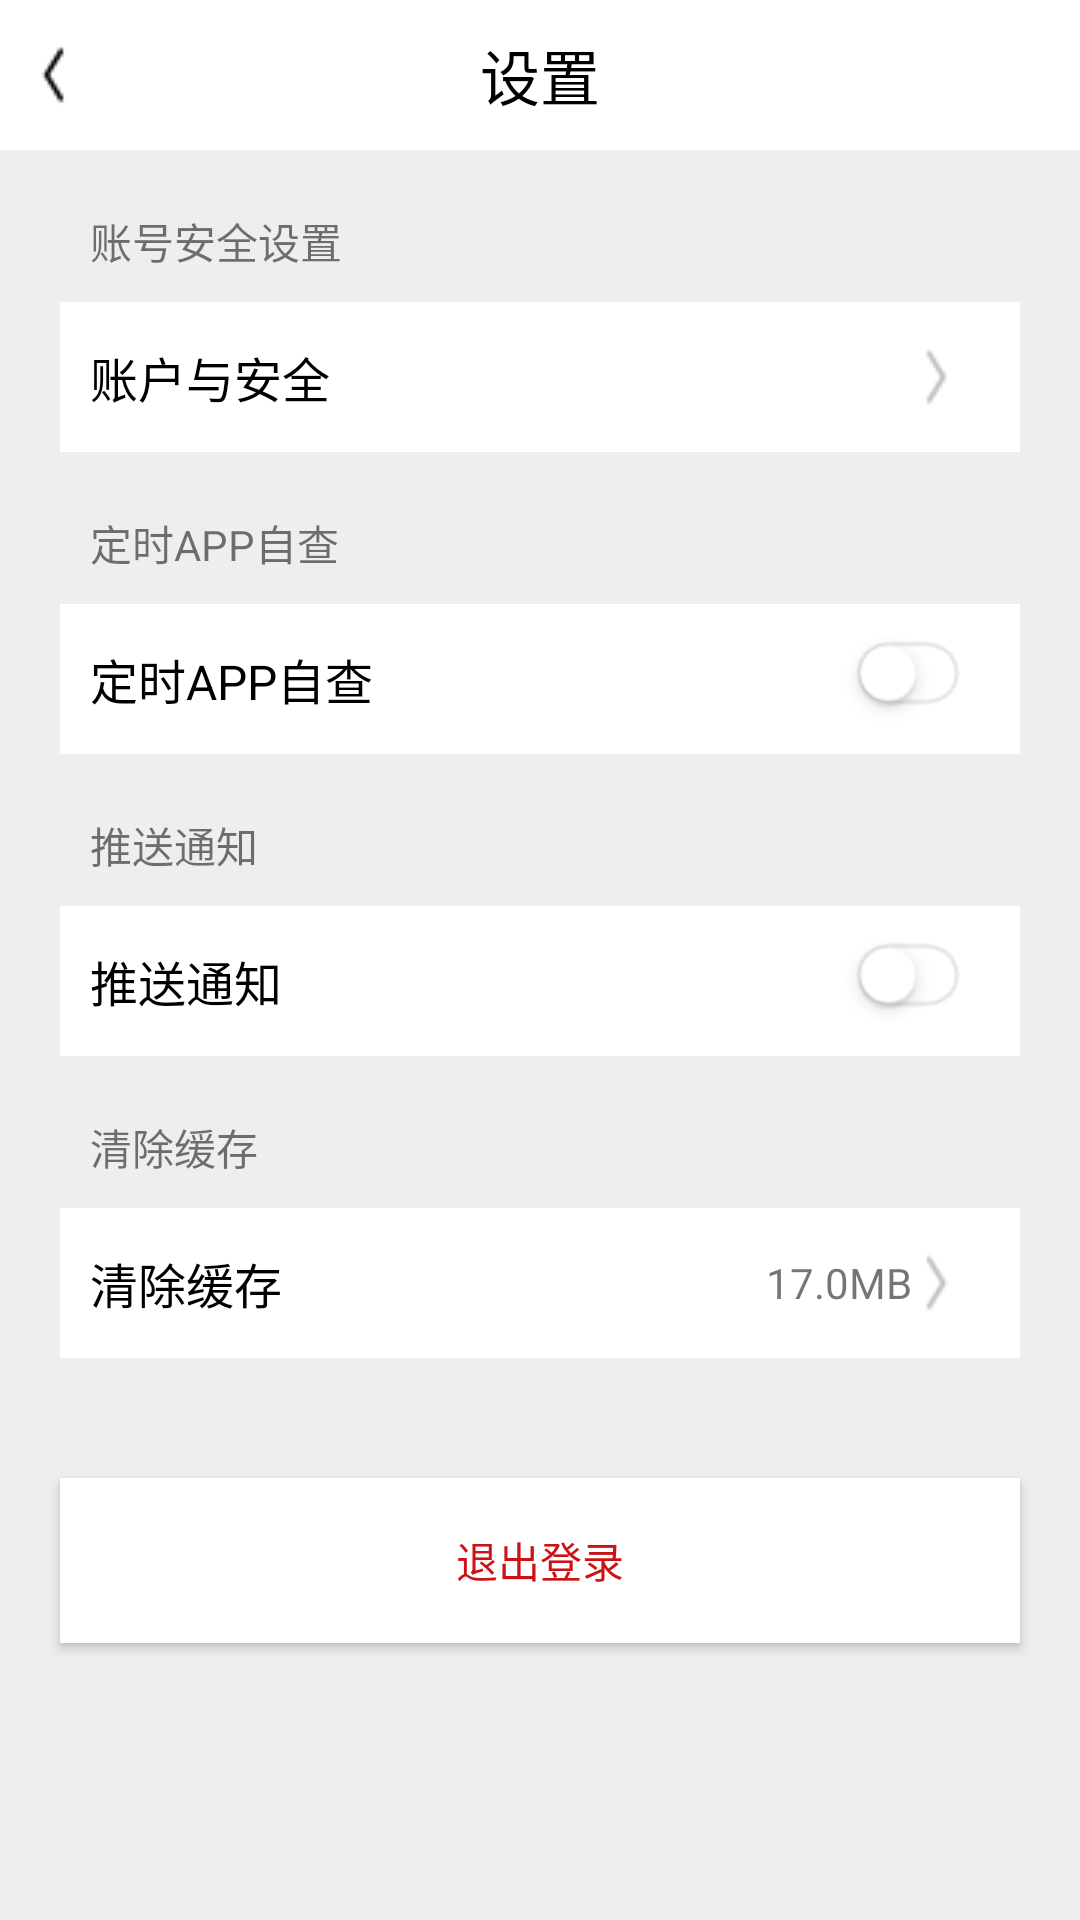

Icon bounding boxes for this 1080w x 1920h phone screenshot, format (x1=x1, y1=y1, x2=x2, y2=y2):
left: (x1=42, y1=47, x2=64, y2=103)
right: (x1=927, y1=350, x2=946, y2=404)
